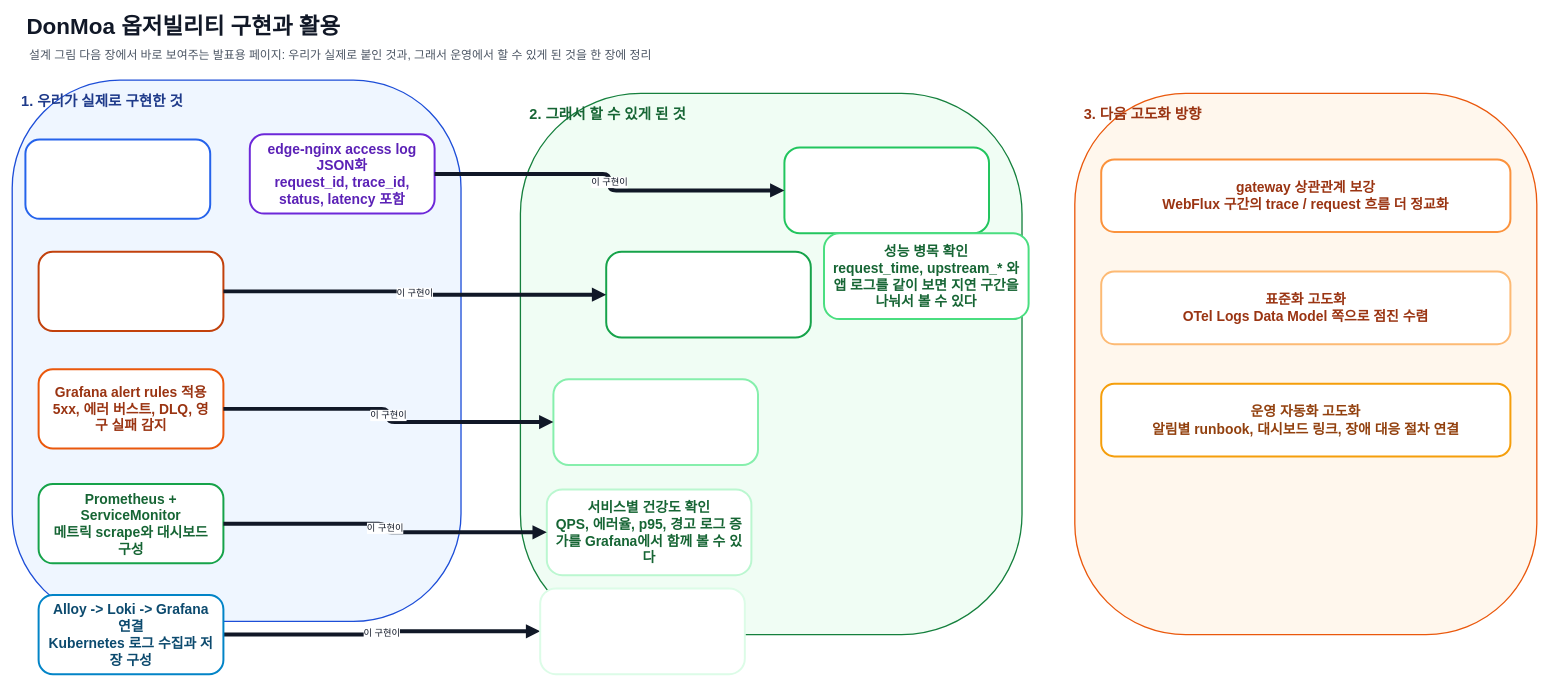
This 1548x686 diagram has some shape labels left out. The shapes that lost their labels are listed below. From the top down, each one's centre as x and y in pixels, then its label:
At [117,178]: "Spring 서비스 로그 JSON화 공통 logback 설정으로 stdout 출력".
At [886,190]: "장애 구간 분리 Nginx 5xx인지, gateway 문제인지, 도메인 서비스 문제인지 빠르게 좁힐 수 있다".
At [130,291]: "requestId / traceId / spanId 유지 로그 상관관계 키 통일".
At [708,294]: "요청 단위 추적 requestId / traceId로 ingress -> gateway -> service 로그를 이어서 볼 수 있다".
At [655,422]: "운영 알림 자동화 로그 기반 경고와 대시보드 링크까지 연결해 초동 대응 시간을 줄일 수 있다".
At [642,631]: "도메인 이슈 탐지 Notification 영구 실패, Media Worker DLQ 같은 비즈니스 장애도 로그 기준으로 잡을 수 있다".
